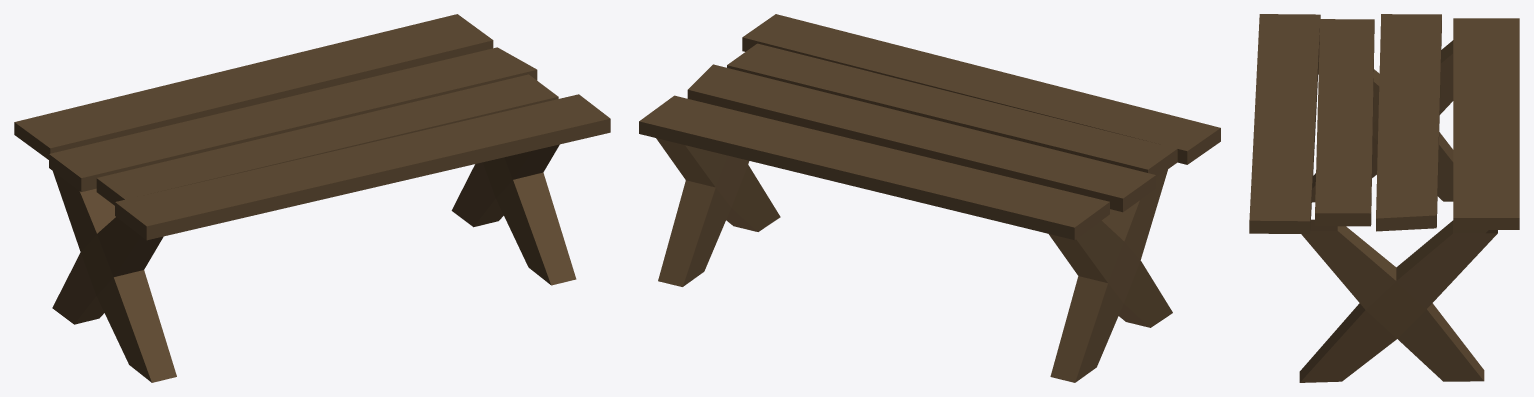
The model's file is Table_1.fbx.
The picture shows the model from 3 angles, left to right: view 1: azimuth 30°, elevation 25°; view 2: azimuth 150°, elevation 25°; view 3: azimuth 270°, elevation 25°; orthographic projection. The views are drawn at different scales.
Visible parts, largest first — view 1: Table_1; view 2: Table_1; view 3: Table_1.
Boxes of the visible parts, x1=… form: Table_1: x1=14, y1=14, x2=610, y2=382; Table_1: x1=639, y1=14, x2=1220, y2=382; Table_1: x1=1249, y1=14, x2=1519, y2=382.
Bounding box in the file's own units: 298 × 111 × 164.
